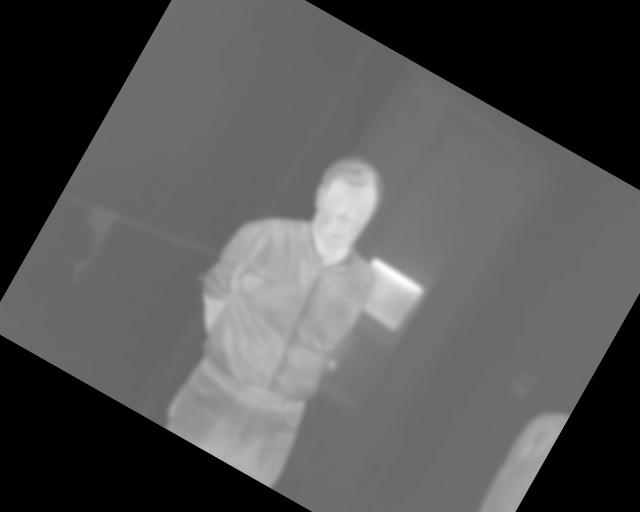face: (292, 145, 397, 262)
